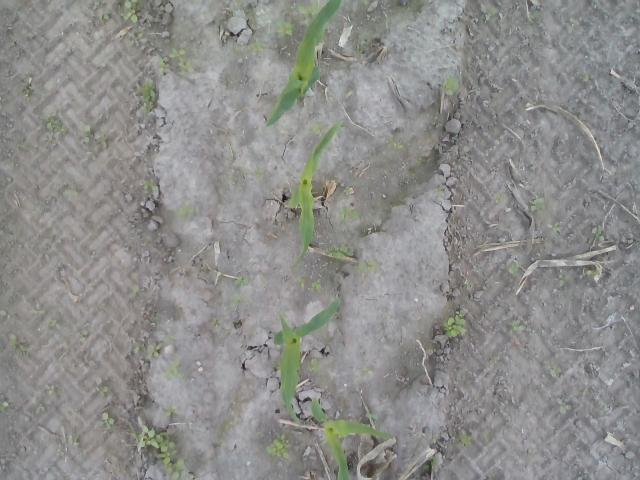Maize: (264, 0, 344, 128), (272, 298, 346, 425), (288, 120, 342, 267), (309, 397, 394, 480)
Weeds: (130, 416, 197, 480), (159, 46, 194, 80), (440, 306, 469, 337), (39, 110, 64, 143), (290, 0, 323, 23), (265, 431, 291, 459), (136, 80, 158, 113), (6, 334, 32, 358), (233, 40, 271, 56), (334, 206, 364, 226), (94, 407, 118, 432), (81, 124, 108, 146), (175, 200, 199, 224), (118, 0, 142, 24), (274, 14, 296, 40), (132, 341, 161, 359), (227, 291, 253, 311), (161, 360, 185, 380), (326, 241, 354, 258), (440, 73, 461, 95), (384, 133, 404, 152), (296, 276, 322, 290), (479, 4, 498, 22), (355, 260, 381, 273), (127, 32, 148, 48), (454, 430, 472, 448), (528, 196, 544, 212), (218, 416, 234, 432), (64, 432, 80, 448), (590, 226, 608, 240), (142, 177, 158, 192), (162, 402, 177, 418), (511, 318, 526, 333), (95, 384, 109, 400), (576, 266, 598, 276), (234, 276, 251, 288), (307, 358, 321, 372), (360, 367, 372, 383), (78, 328, 90, 344), (309, 120, 322, 134), (558, 400, 570, 415), (558, 270, 568, 288), (64, 188, 80, 198), (34, 402, 46, 415), (44, 382, 56, 395), (20, 85, 34, 96), (546, 223, 560, 234), (0, 394, 8, 412), (494, 190, 504, 204), (98, 13, 110, 24), (366, 414, 382, 422), (30, 308, 46, 316), (548, 368, 560, 378), (509, 264, 521, 274), (344, 87, 354, 98), (629, 8, 640, 18), (148, 313, 160, 322), (255, 164, 264, 176), (48, 320, 58, 330), (416, 159, 428, 167), (354, 46, 366, 54), (342, 184, 352, 193), (221, 31, 231, 40), (359, 0, 369, 9), (435, 184, 444, 193), (430, 456, 438, 466), (130, 288, 140, 296), (212, 319, 220, 328), (463, 279, 472, 285), (332, 31, 337, 39)
